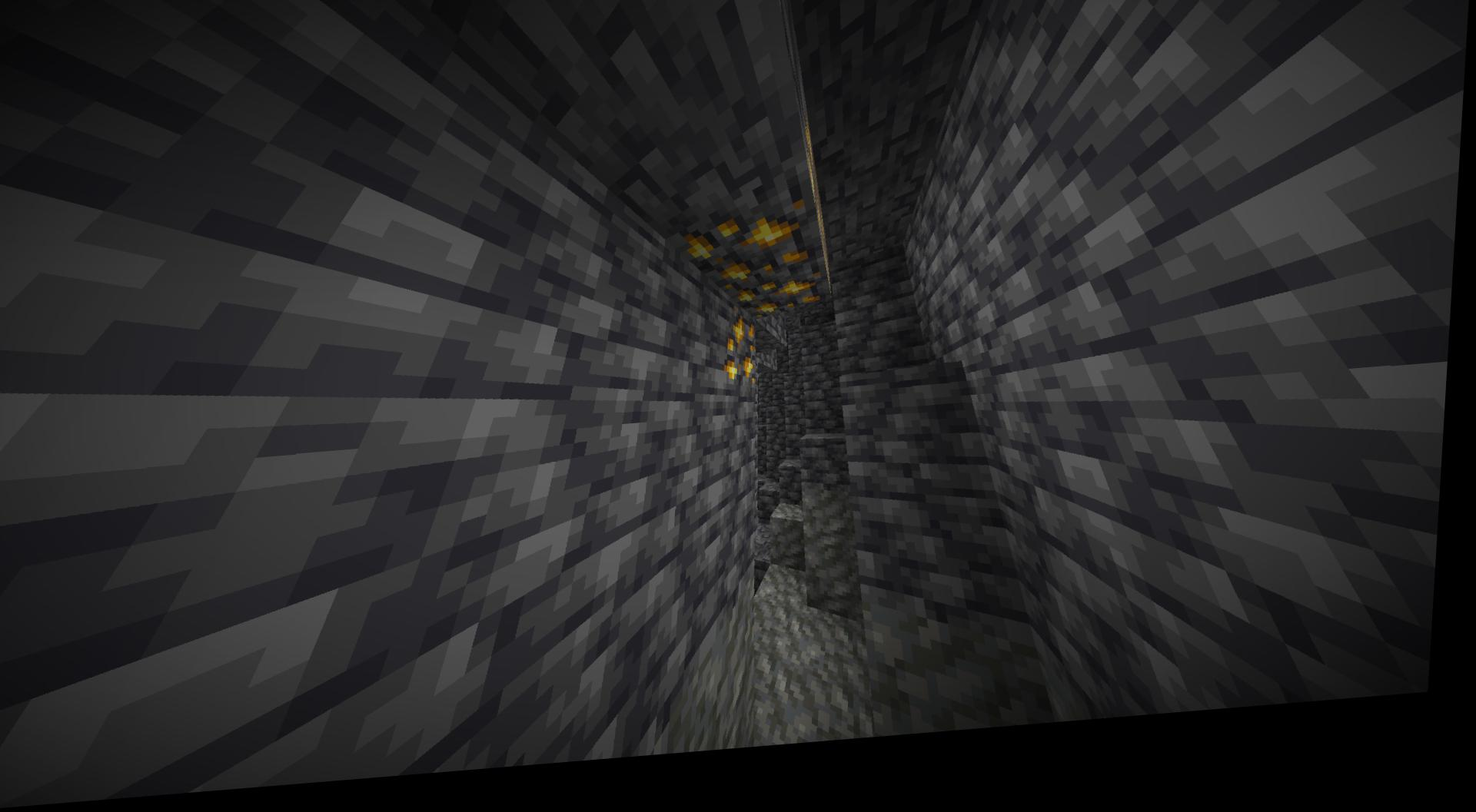gold ore: (690, 214, 811, 295), (728, 284, 834, 329), (728, 324, 763, 395)
